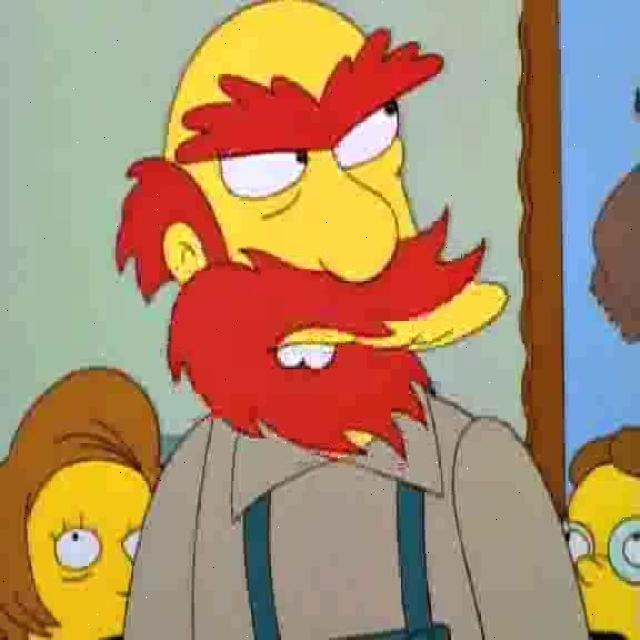Edna Krappel: (1, 364, 162, 640)
Groundskeeper Willie: (114, 1, 510, 464)
